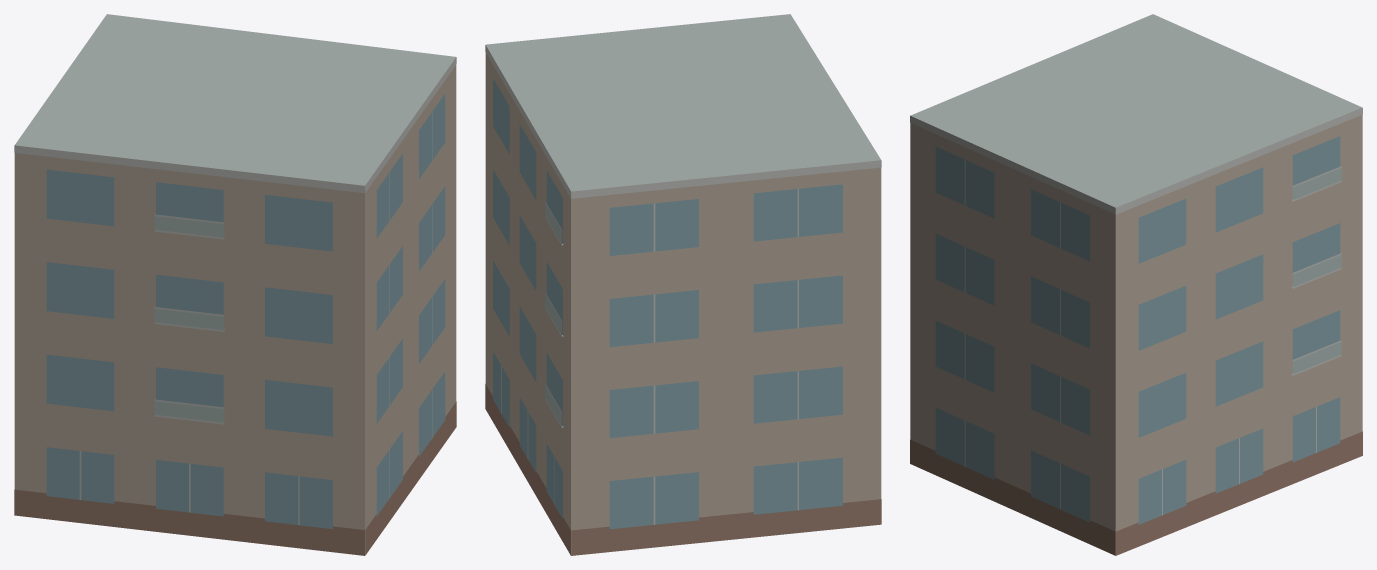
Rendered from survey-upis-33019419.glb.
3 views of the same model, side by side, from view 1: azimuth 30°, elevation 25°; view 2: azimuth 150°, elevation 25°; view 3: azimuth 270°, elevation 25° (orthographic). The views are drawn at different scales.
Visible parts, largest first — view 1: survey-upis-33019419.tmp; view 2: survey-upis-33019419.tmp; view 3: survey-upis-33019419.tmp.
Boxes of the visible parts, x1,y1,x2,y2 form: survey-upis-33019419.tmp: [14, 14, 456, 555]; survey-upis-33019419.tmp: [485, 14, 881, 555]; survey-upis-33019419.tmp: [910, 14, 1362, 555].
Size of the model in its own units: 14.57 by 12.2 by 14.38.
